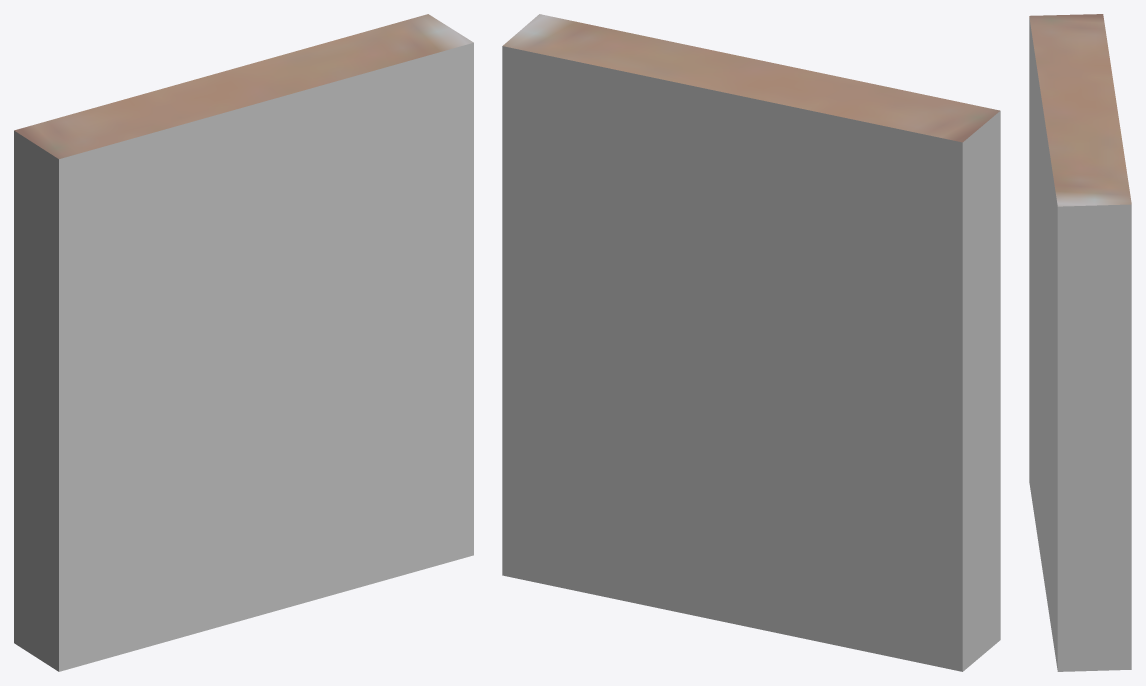
The model's file is DEBW_0010007THXe.gltf.
3 views of the same model, side by side, from view 1: azimuth 30°, elevation 25°; view 2: azimuth 150°, elevation 25°; view 3: azimuth 270°, elevation 25° (orthographic). The views are drawn at different scales.
Visible parts, largest first — view 1: Z_UP; view 2: Z_UP; view 3: Z_UP.
Part boxes in pixels (x1,y1,x2,y2): Z_UP: [14, 14, 473, 671]; Z_UP: [502, 14, 1000, 671]; Z_UP: [1029, 14, 1131, 671].
Bounding box in the file's own units: 6.22 × 7.01 × 1.4.
Materials: 2 (1 with a texture image).
